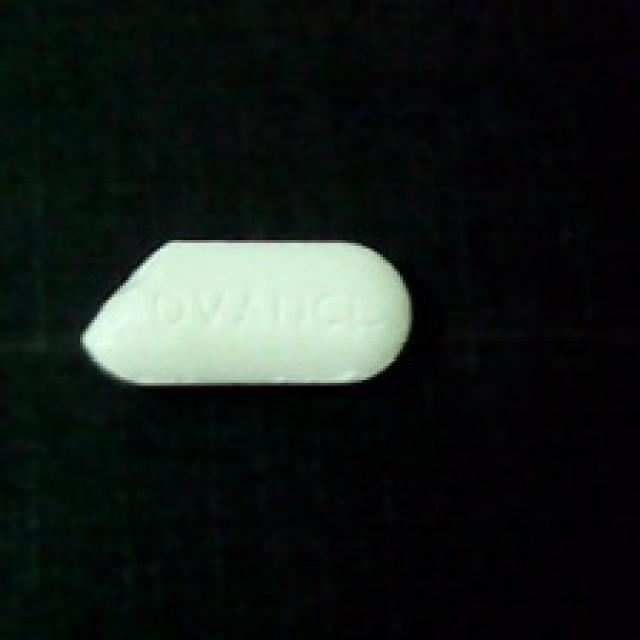defected: (77, 240, 414, 391)
